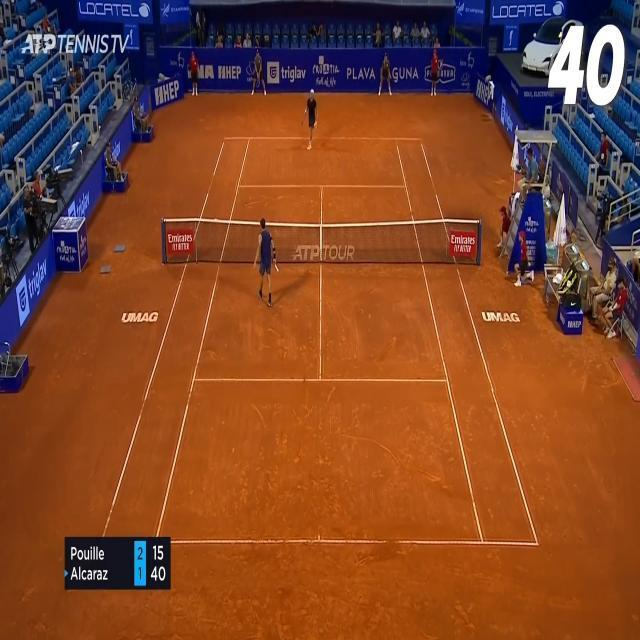court: (100, 137, 540, 546)
net: (161, 219, 482, 265)
player: (252, 217, 278, 307)
